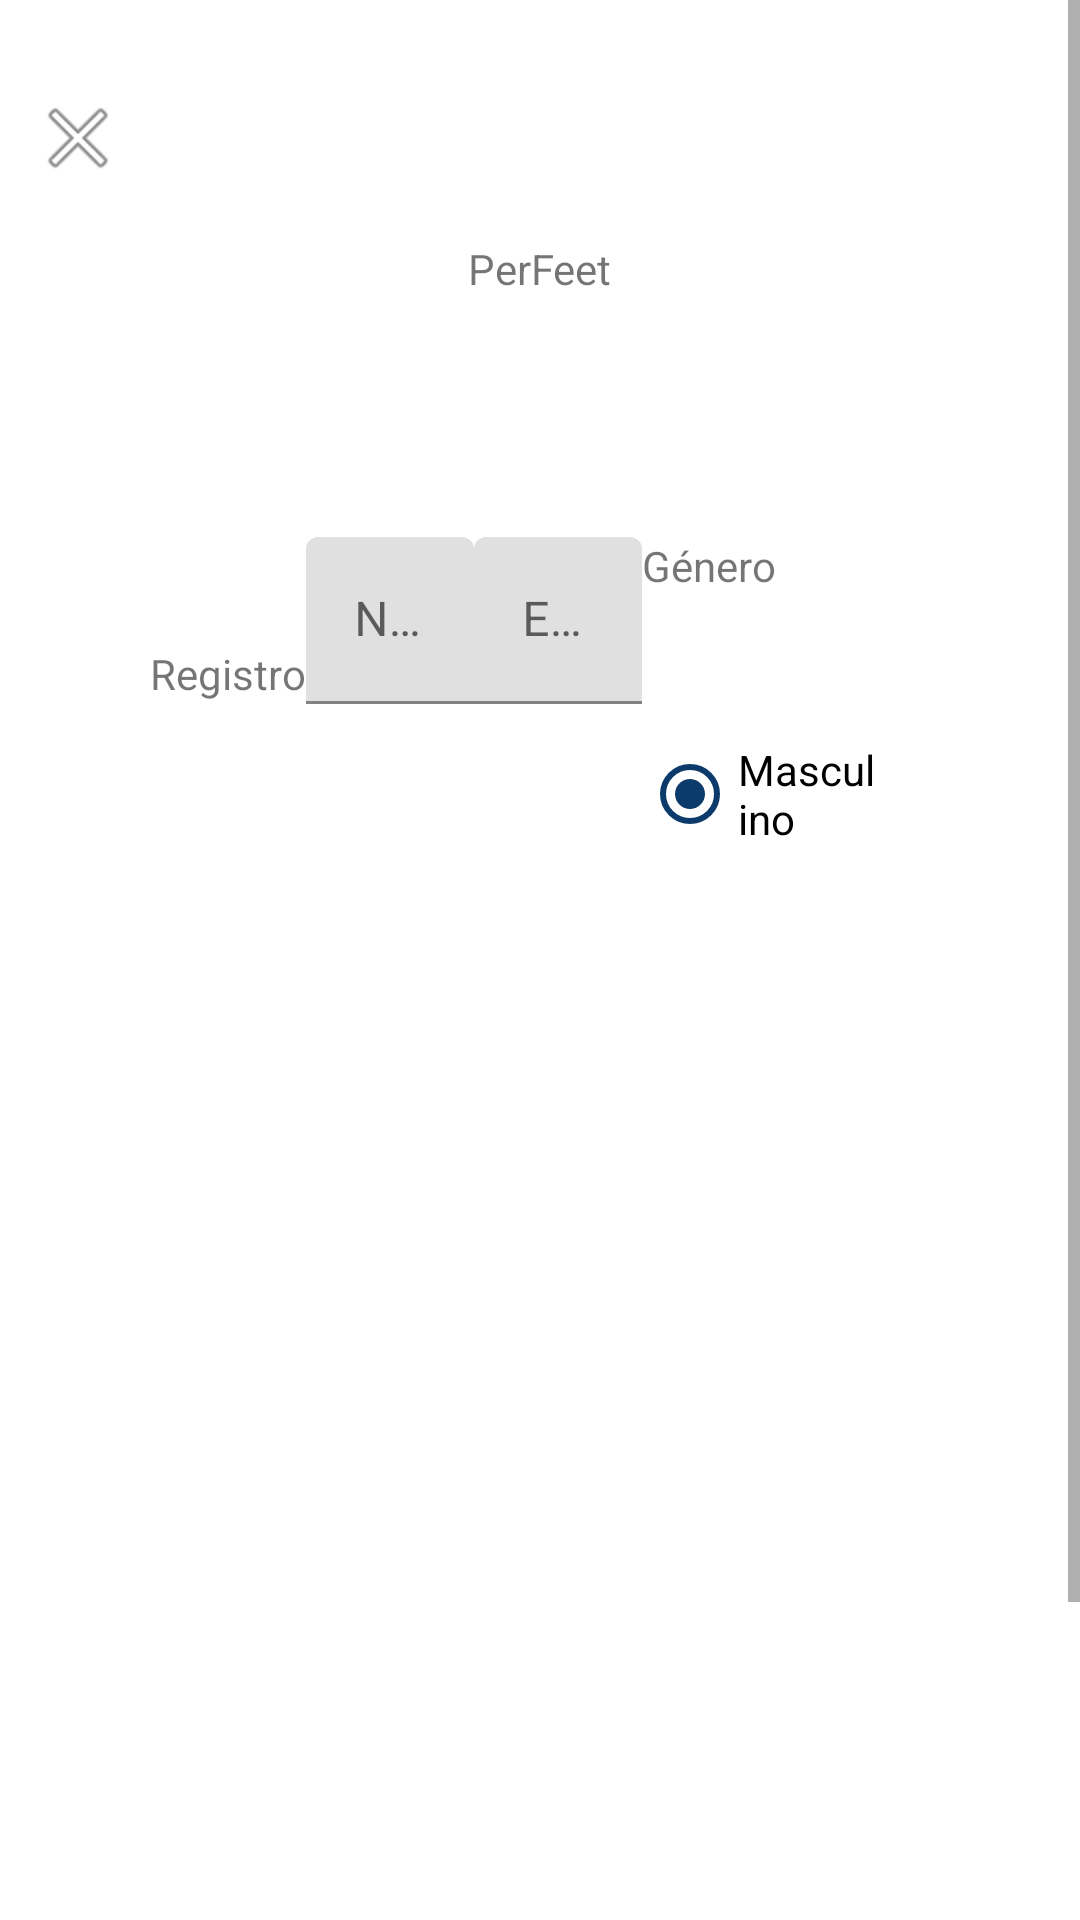

Icon click points for this 1080 x 1920 phone screenshot, format point (x, y):
close clear cancel: point (78, 138)
